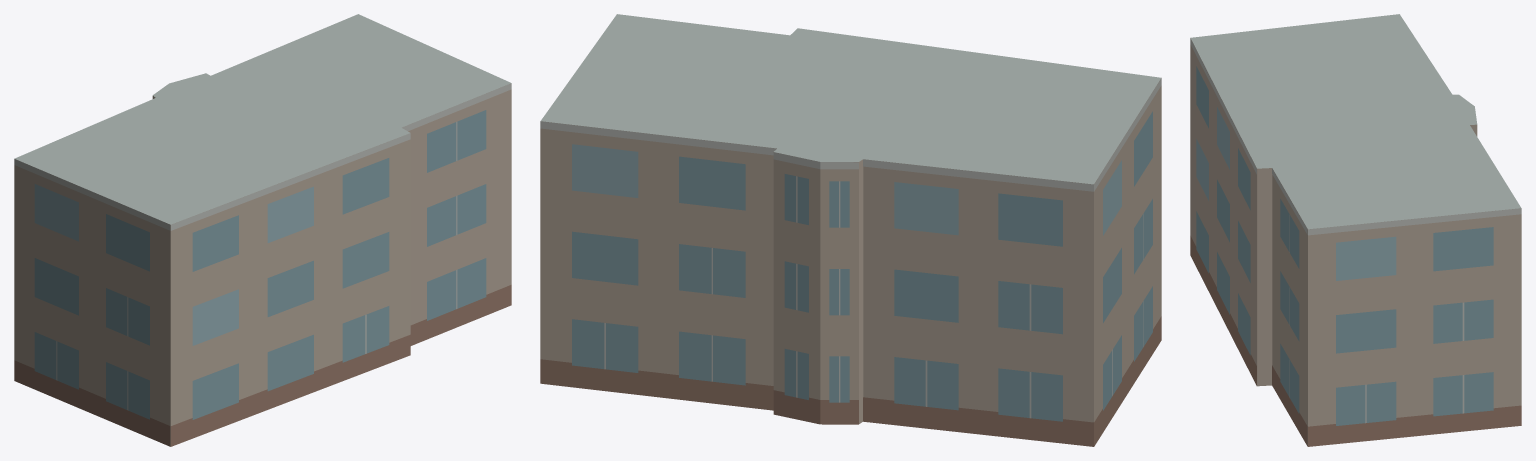
File: survey-upis-32619559.glb
The picture shows the model from 3 angles, left to right: view 1: azimuth 30°, elevation 25°; view 2: azimuth 150°, elevation 25°; view 3: azimuth 270°, elevation 25°; orthographic projection. The views are drawn at different scales.
Visible parts, largest first — view 1: survey-upis-32619559.tmp; view 2: survey-upis-32619559.tmp; view 3: survey-upis-32619559.tmp.
Part boxes in pixels (box(x1,y1,x2,y2)): survey-upis-32619559.tmp: box(14, 14, 511, 446); survey-upis-32619559.tmp: box(540, 14, 1161, 446); survey-upis-32619559.tmp: box(1190, 14, 1521, 446).
Size of the model in its own units: 18.48 by 8.7 by 12.01.
